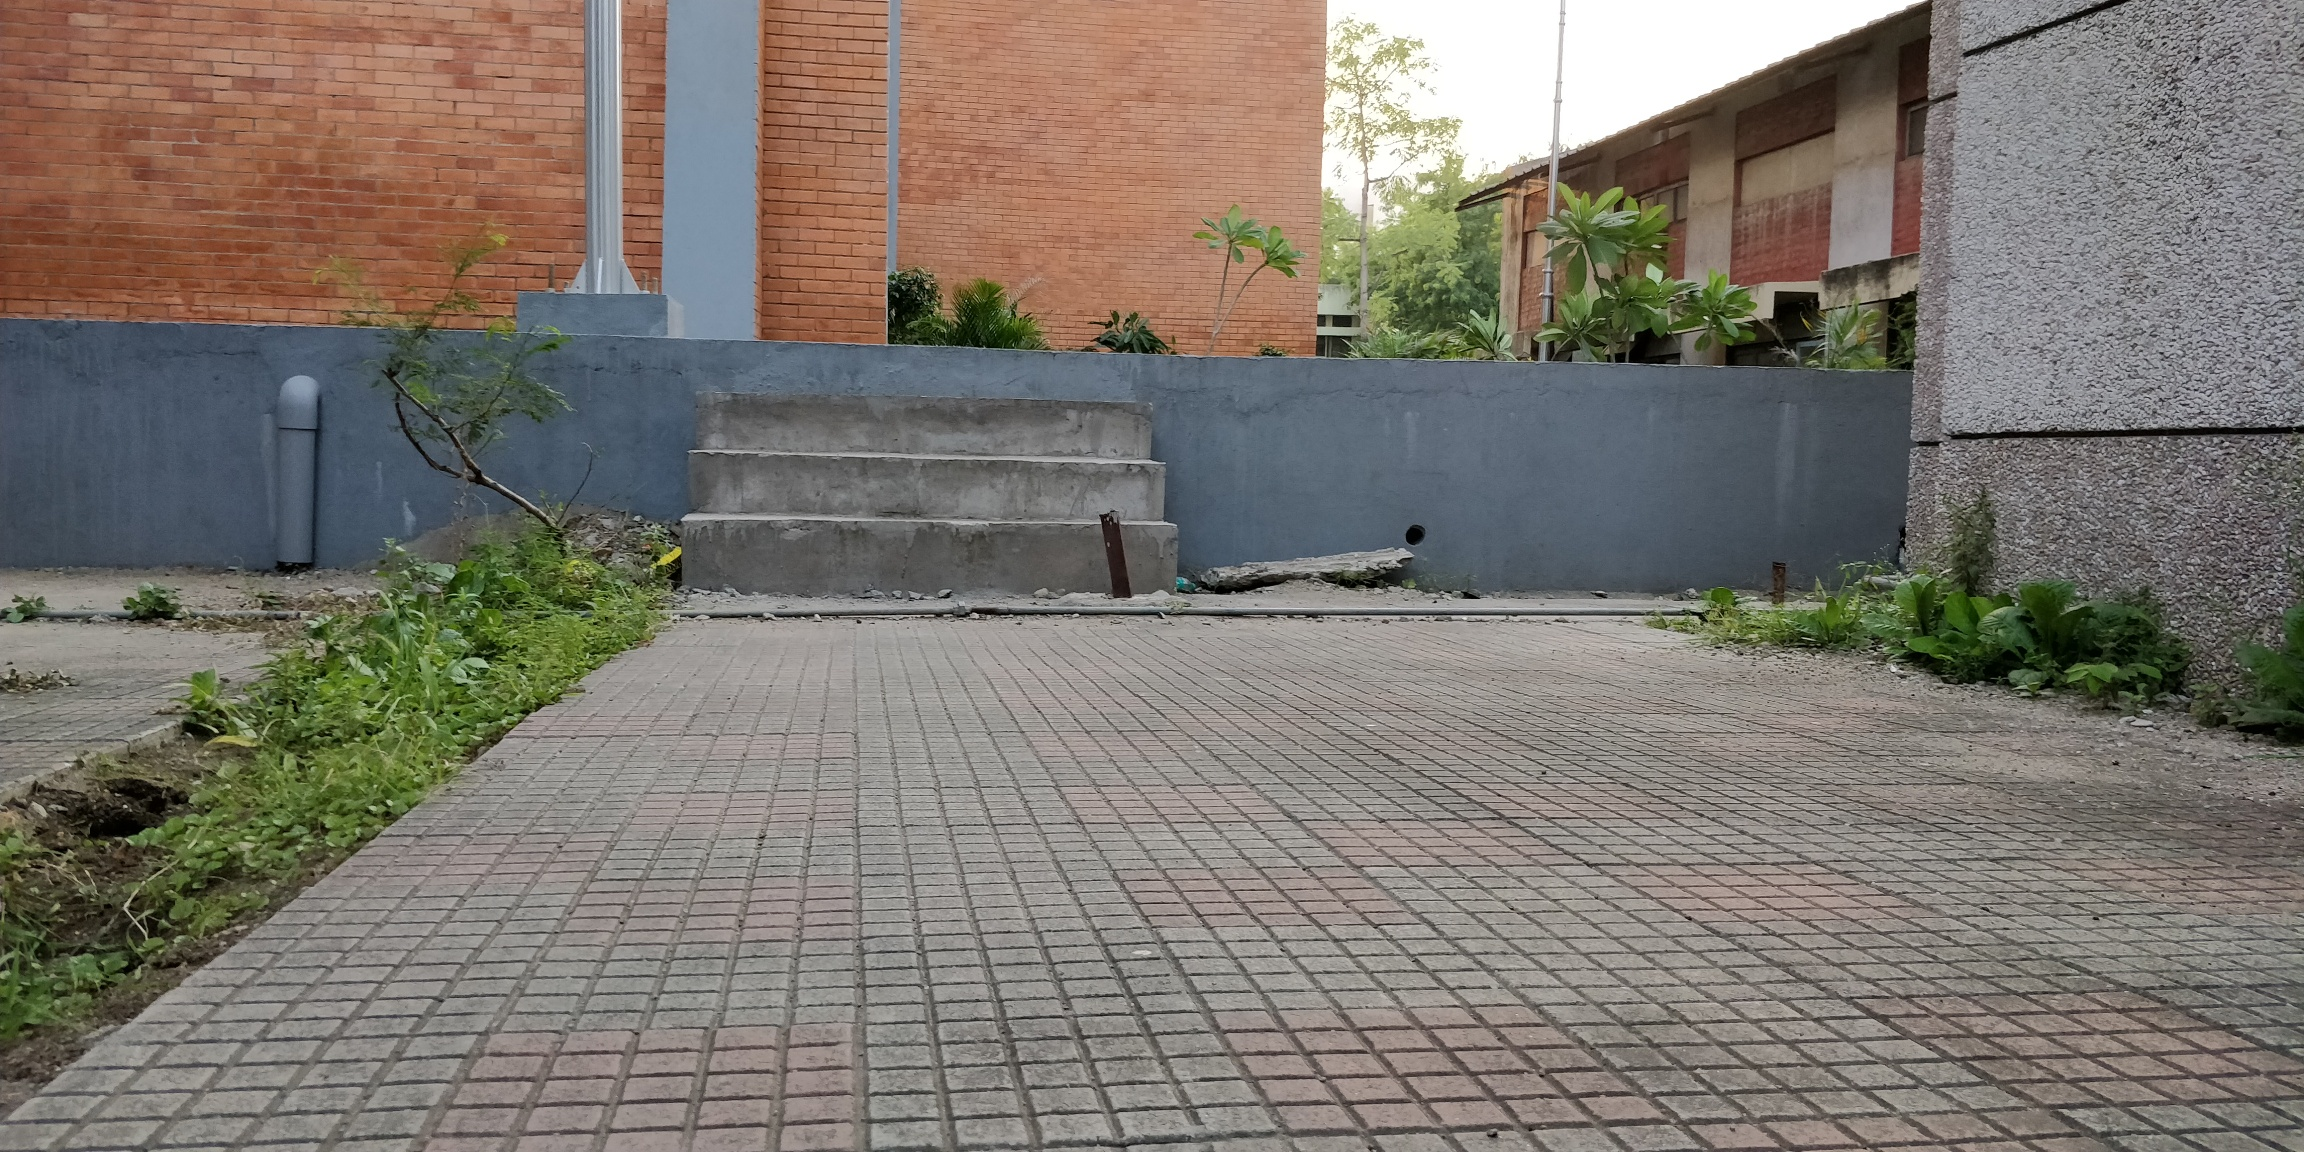stairs_up: (692, 394, 1164, 608)
